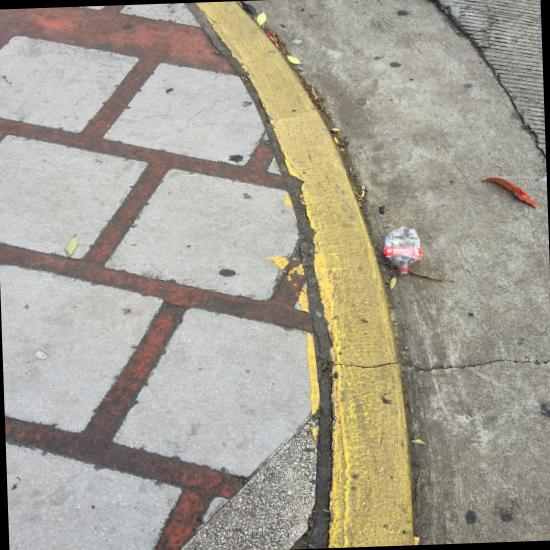Cigarette: (413, 537, 419, 545), (336, 137, 339, 143)
Clear plastic bottle: (384, 226, 423, 277)
